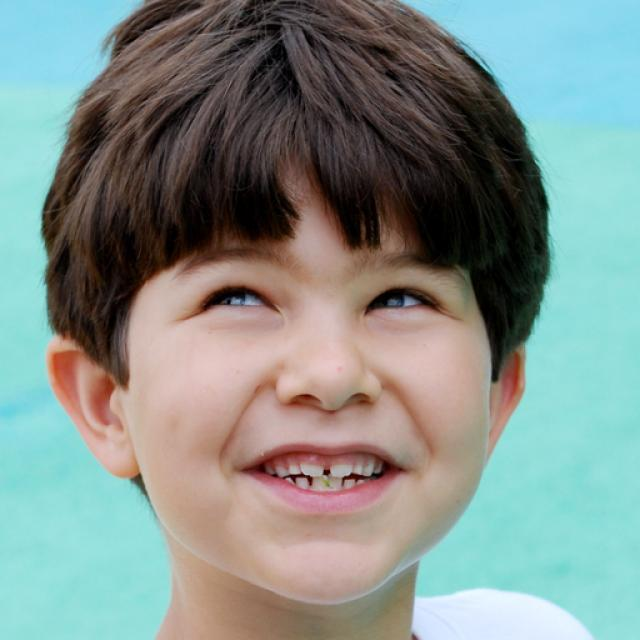happy: (130, 186, 494, 602)
